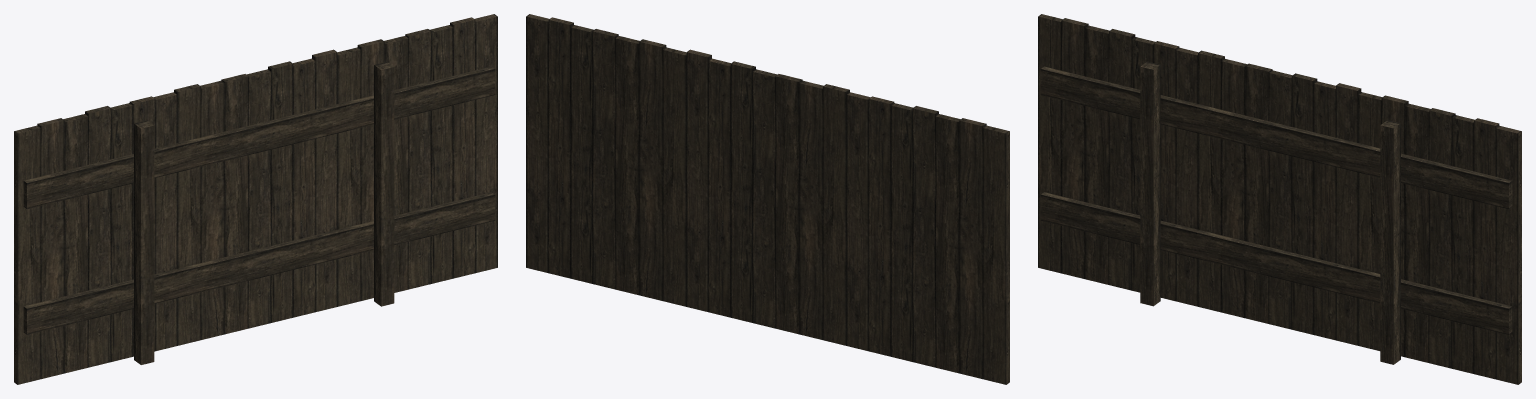
Rendered from fence_a_1.dae.
3 views of the same model, side by side, from view 1: azimuth 30°, elevation 25°; view 2: azimuth 150°, elevation 25°; view 3: azimuth 330°, elevation 25° (orthographic).
Parts seen in each view (by area): view 1: fence_a_1; view 2: fence_a_1; view 3: fence_a_1.
Part boxes in pixels (box(x1,y1,x2,y2)): fence_a_1: box(14, 14, 497, 384); fence_a_1: box(526, 14, 1009, 384); fence_a_1: box(1038, 14, 1521, 384).
Bounding box in the file's own units: 4 × 0.2033 × 2.03.
1 material, 1 textured.
